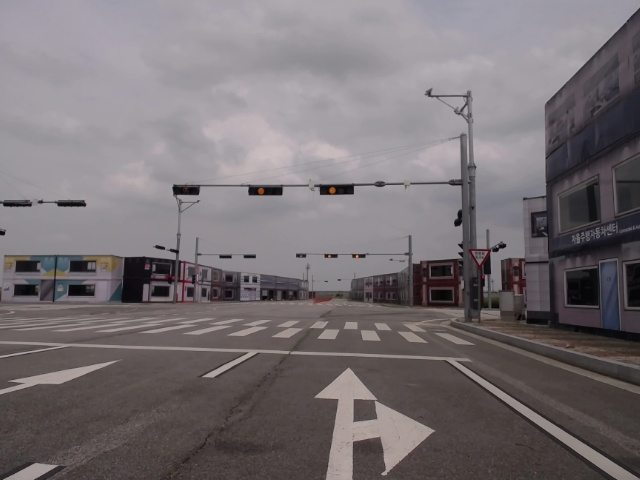orange_4: (318, 183, 356, 197), (249, 184, 283, 197), (323, 253, 340, 259), (353, 253, 368, 259)
